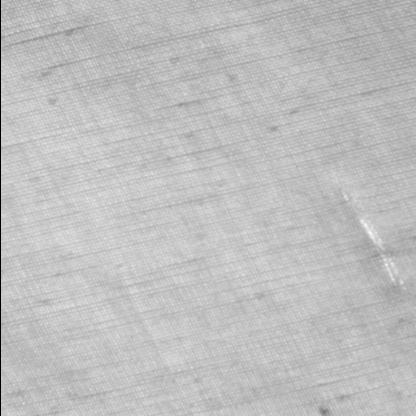thread error: (330, 186, 416, 304)
